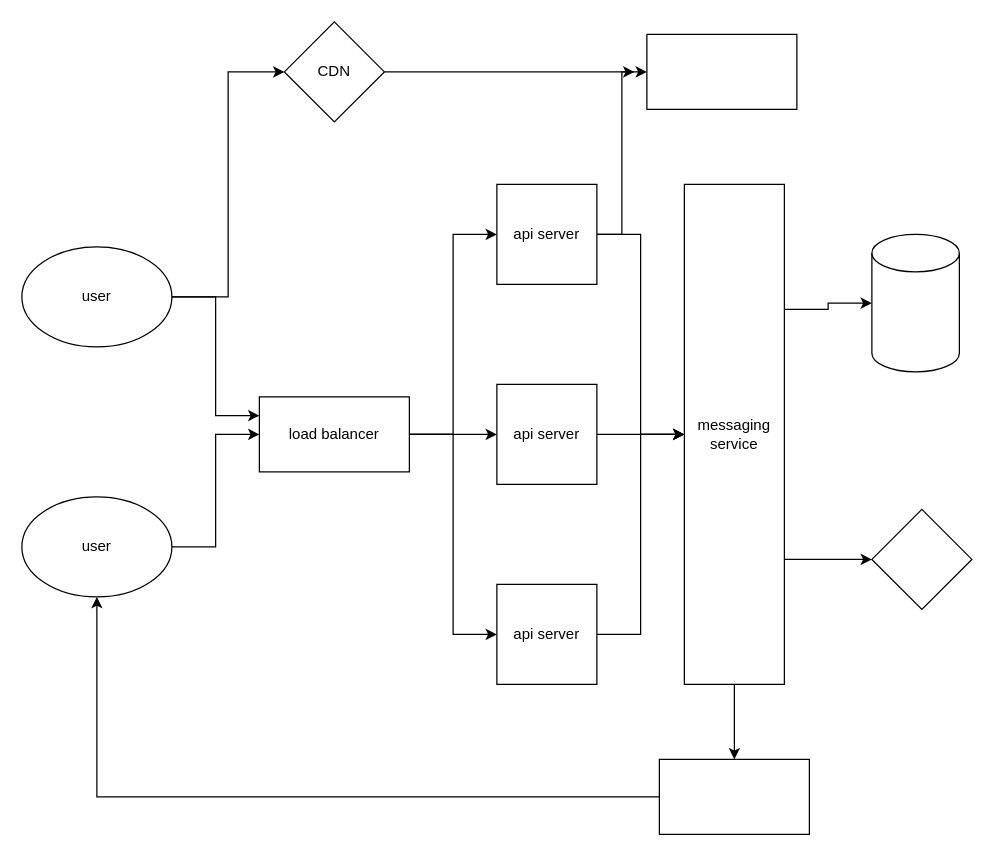
Some shapes in this 994 by 856 pixel diagram are drawn without their labels. Each missing label, with the centre of its shape:
cache: the point at 921,558
DB: the point at 915,302
notification service: the point at 733,796
S3: the point at 721,71
